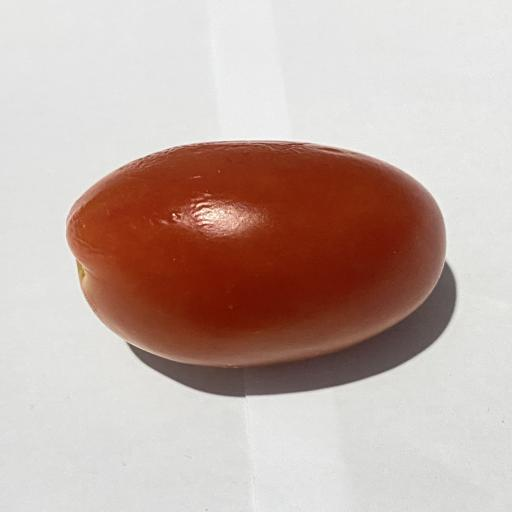spoiled: (67, 141, 445, 366)
